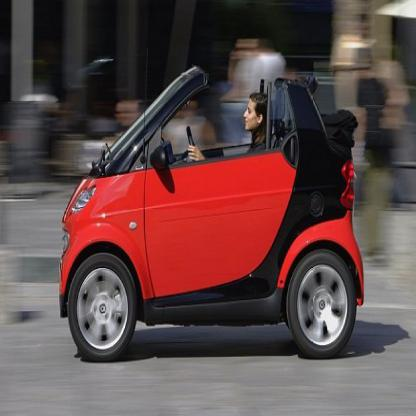car: (60, 63, 366, 362)
